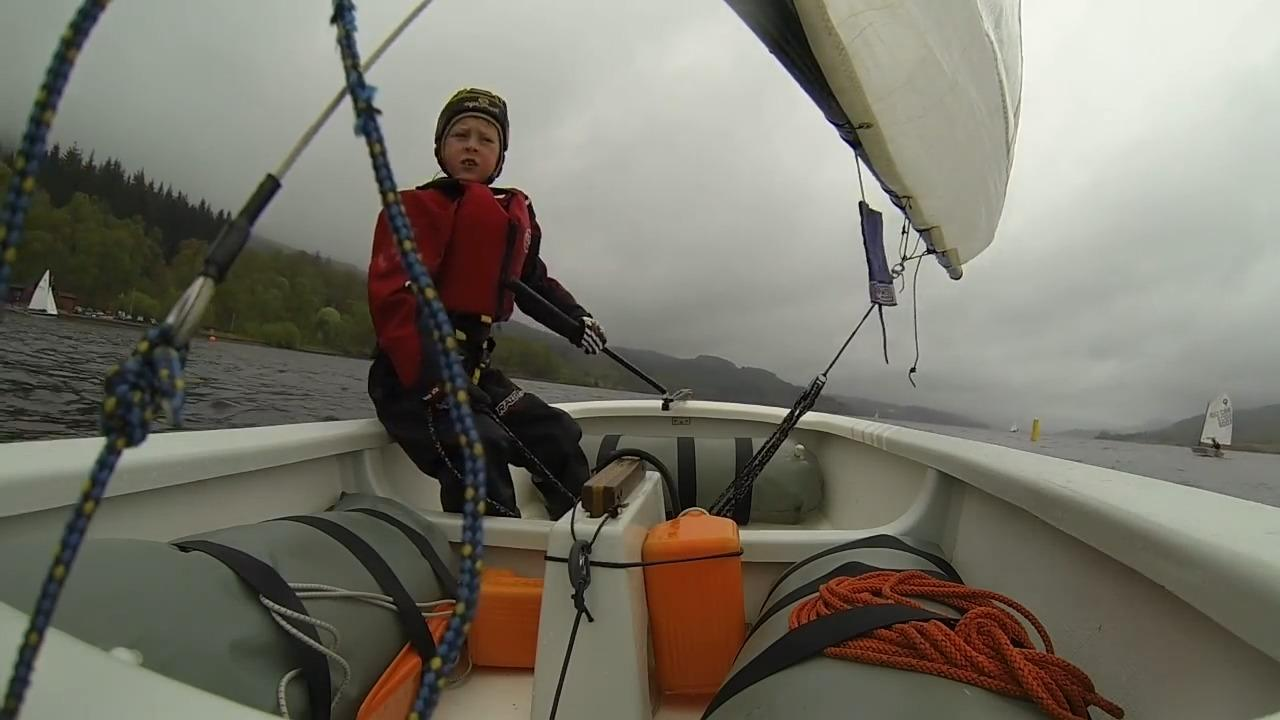boat: (0, 399, 1280, 720)
land: (3, 154, 220, 319), (492, 323, 805, 407), (208, 241, 377, 359), (813, 395, 1009, 431), (1037, 418, 1206, 449), (1225, 406, 1280, 454)
person: (368, 89, 606, 517)
sea: (915, 426, 1280, 507), (0, 313, 136, 443), (180, 342, 376, 430), (522, 381, 655, 402)
sky: (45, 0, 1280, 430), (0, 0, 117, 140)
